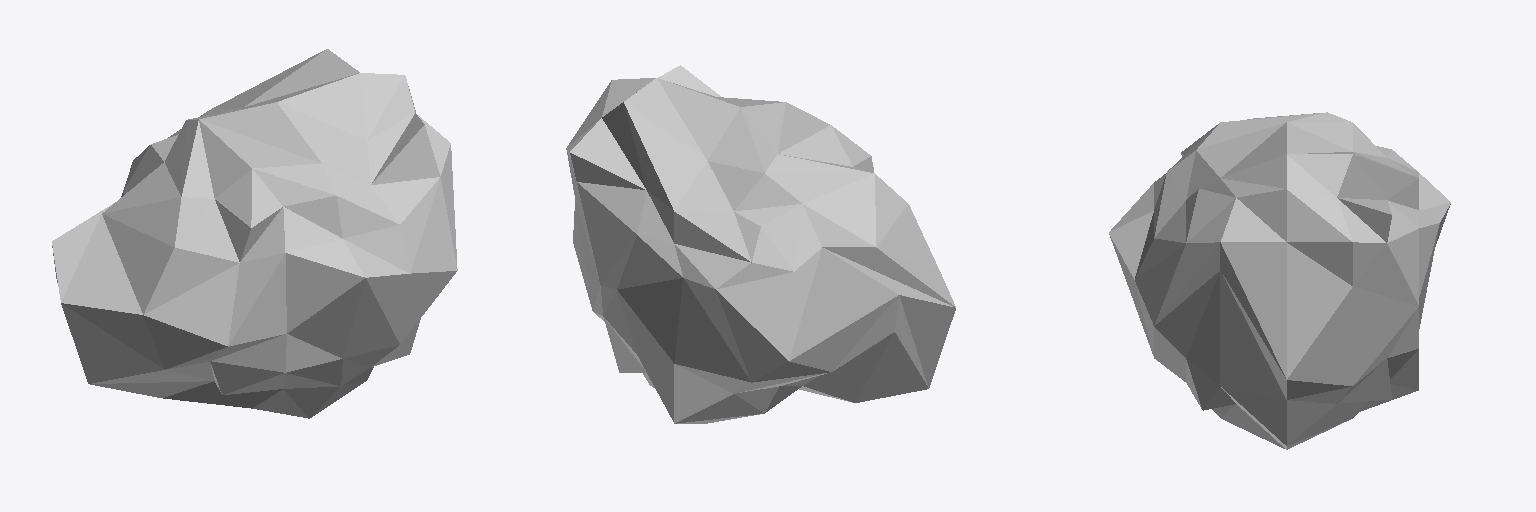
File: Ore 4.obj
3 views of the same model, side by side, from view 1: azimuth 30°, elevation 25°; view 2: azimuth 150°, elevation 25°; view 3: azimuth 270°, elevation 25° (orthographic).
Parts seen in each view (by area): view 1: Ore_2; view 2: Ore_2; view 3: Ore_2.
Part boxes in pixels (x1,y1,x2,y2): Ore_2: (52, 49, 457, 418); Ore_2: (566, 65, 955, 423); Ore_2: (1109, 112, 1450, 449).
Bounding box in the file's own units: 2.37 × 1.82 × 1.83.